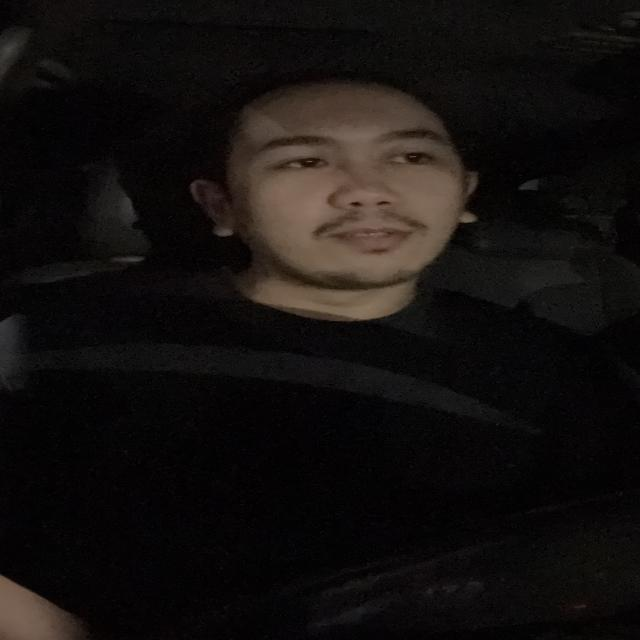open: (245, 134, 336, 180), (372, 128, 449, 173)
